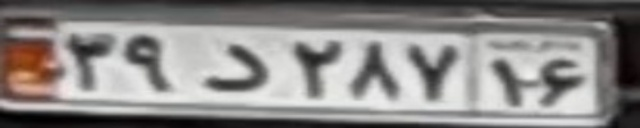1: (488, 55, 525, 106)
2: (294, 38, 337, 98)
3: (65, 32, 116, 90)
6: (538, 56, 590, 106)
7: (408, 43, 454, 101)
8: (347, 41, 401, 99)
9: (123, 32, 170, 90)
dal: (204, 43, 262, 91)
